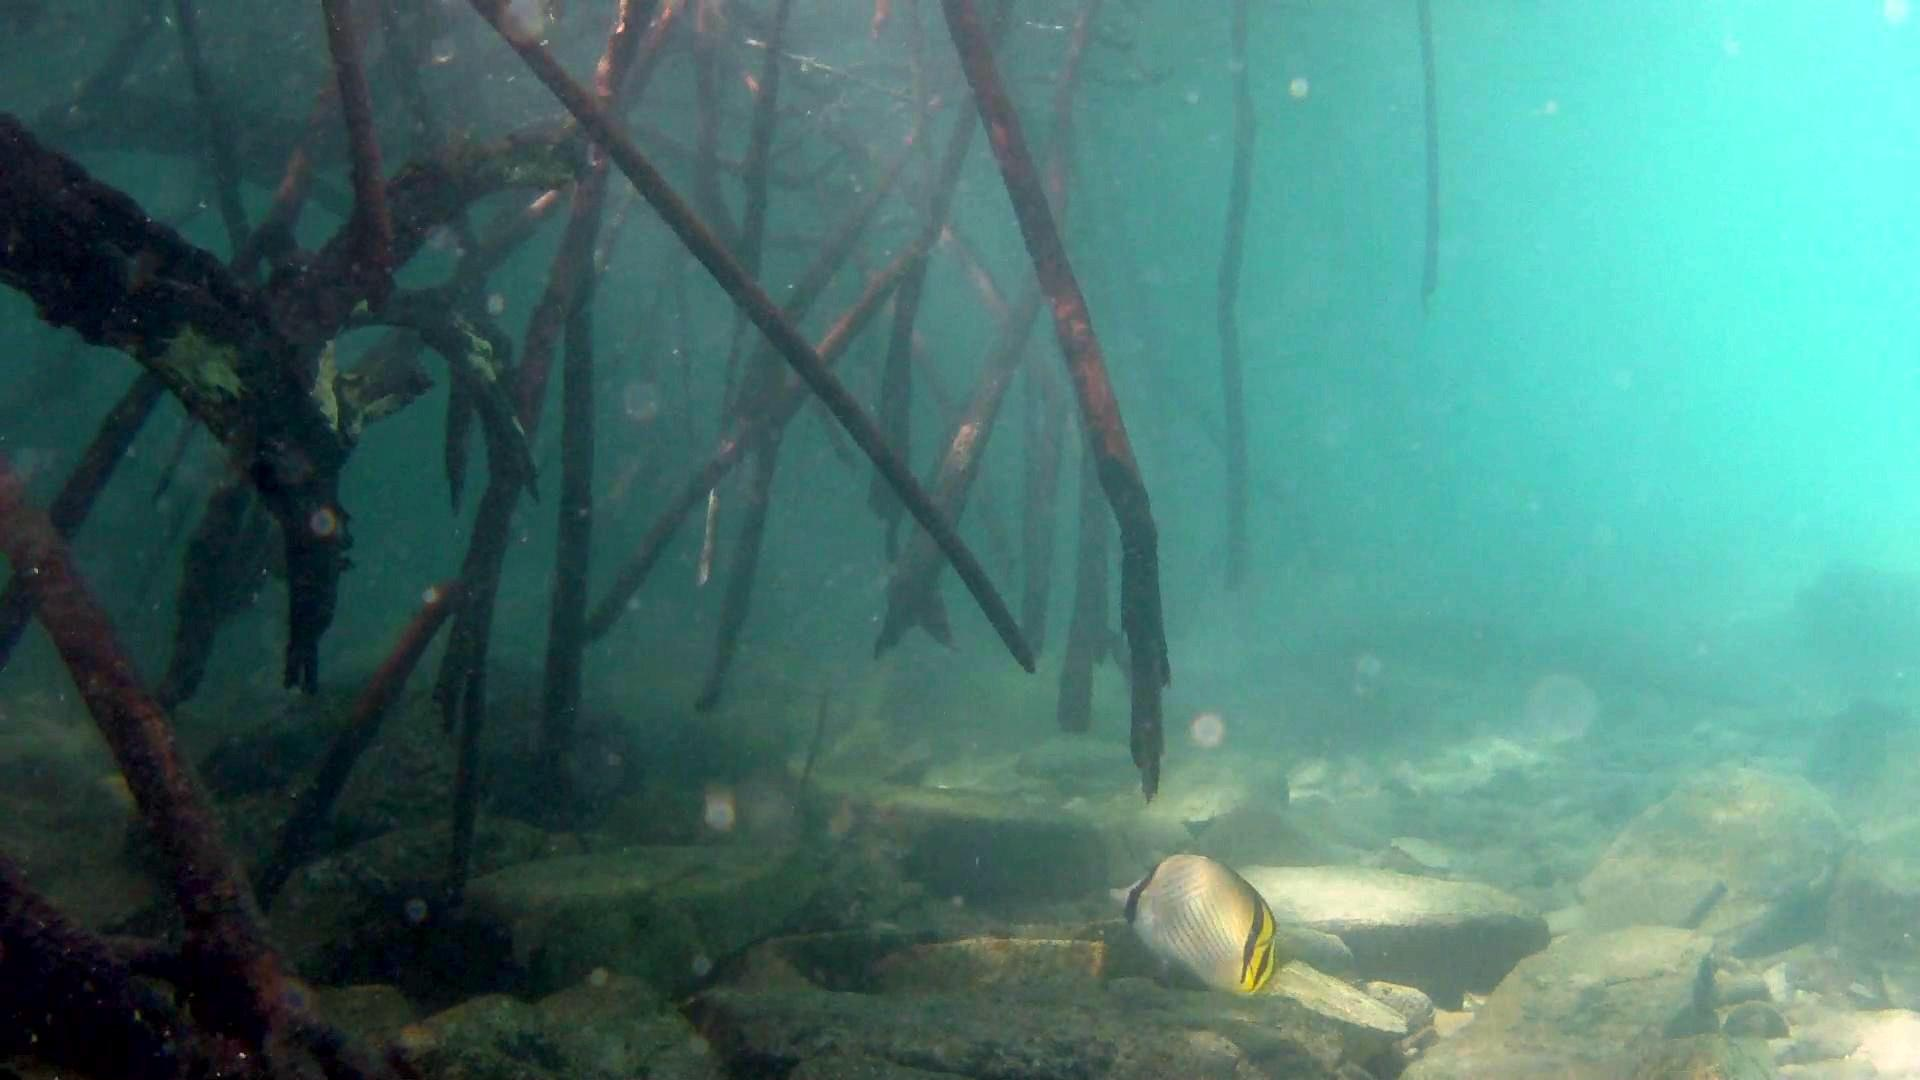chaetodon vagabundus: (1106, 852, 1279, 998)
